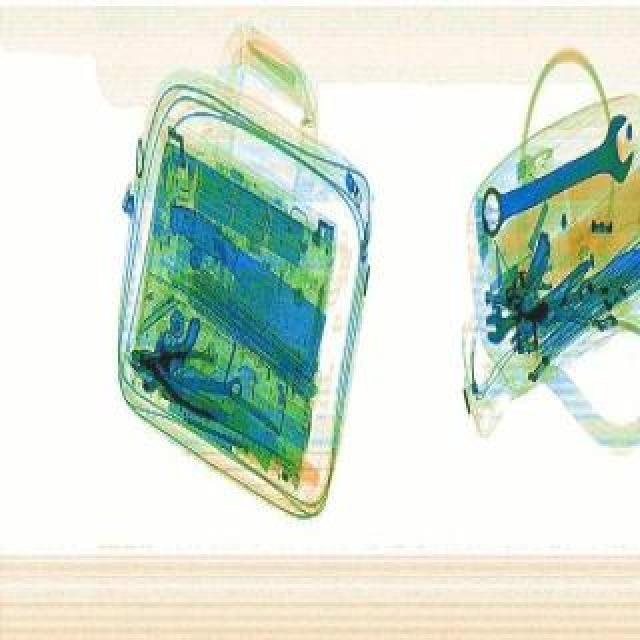gun: (482, 222, 558, 314), (126, 312, 206, 372)
knife: (134, 196, 352, 368)
scissors: (468, 130, 640, 234), (476, 272, 600, 344), (142, 360, 246, 400)
wrench: (126, 334, 234, 416)
